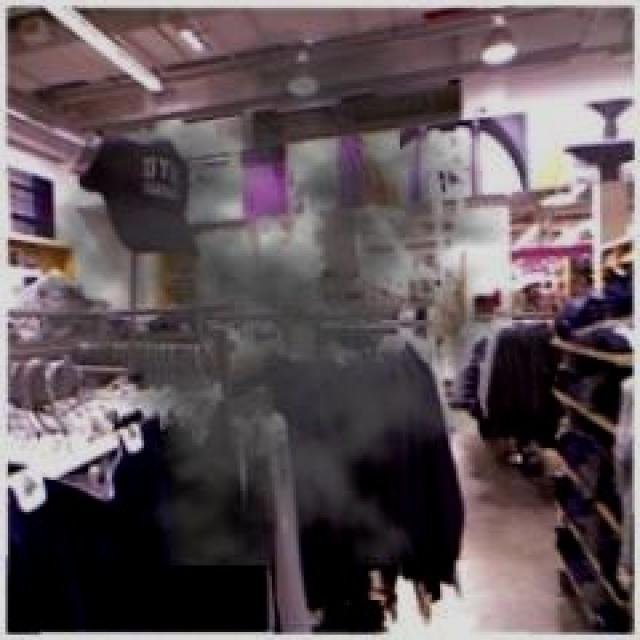smoke: (146, 167, 442, 548)
